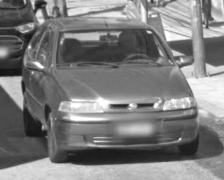car: (20, 17, 200, 161)
